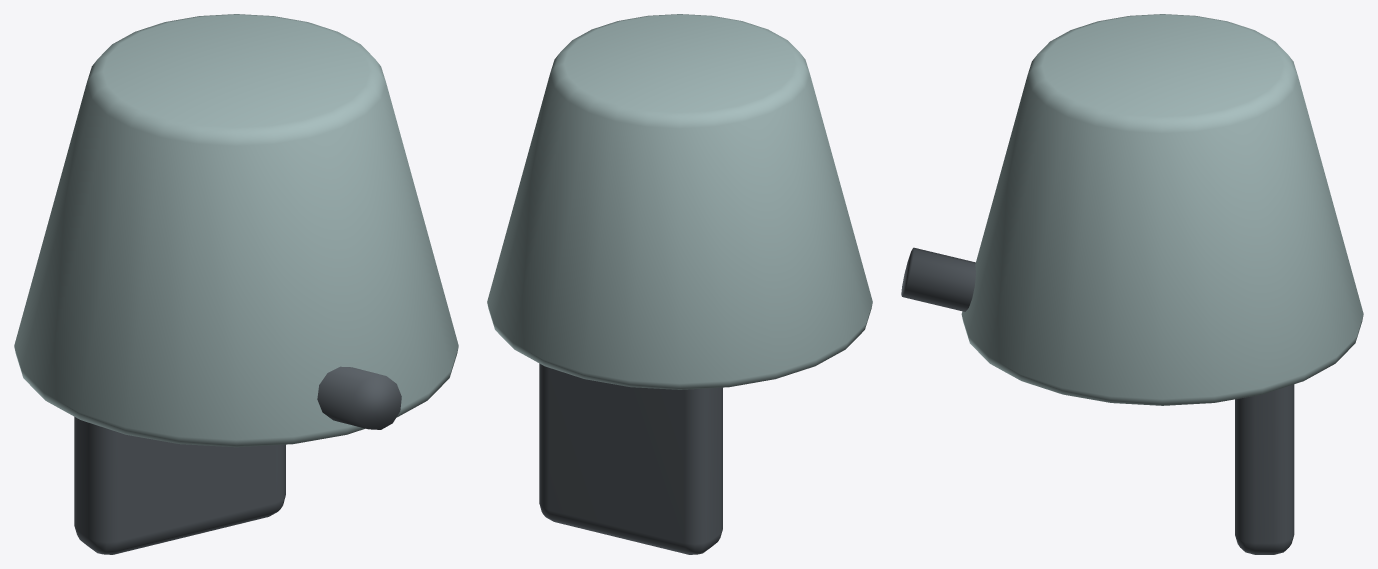
The model's file is atelier-wall-mounted-reading-lamp.glb.
3 views of the same model, side by side, from view 1: azimuth 30°, elevation 25°; view 2: azimuth 150°, elevation 25°; view 3: azimuth 270°, elevation 25° (orthographic). The views are drawn at different scales.
Visible parts, largest first — view 1: fabric.067, metal.079; view 2: fabric.067, metal.079; view 3: fabric.067, metal.079.
Boxes of the visible parts, x1,y1,x2,y2 form: fabric.067: (14,14,458,447); metal.079: (74,366,401,554); fabric.067: (487,14,872,389); metal.079: (539,363,722,554); fabric.067: (961,14,1363,405); metal.079: (901,247,1294,554).
Size of the model in its own units: 0.2366 by 0.294 by 0.2721.
